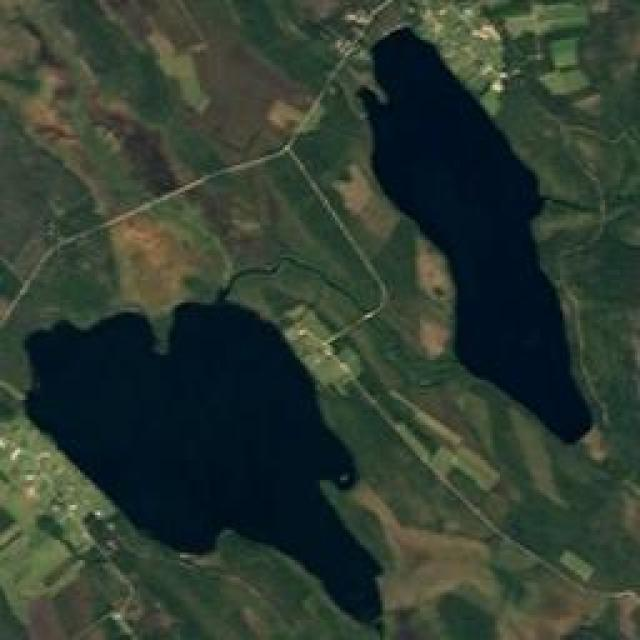Agriculture: (0, 0, 639, 640)
Lake: (20, 295, 385, 630), (353, 23, 595, 445)
